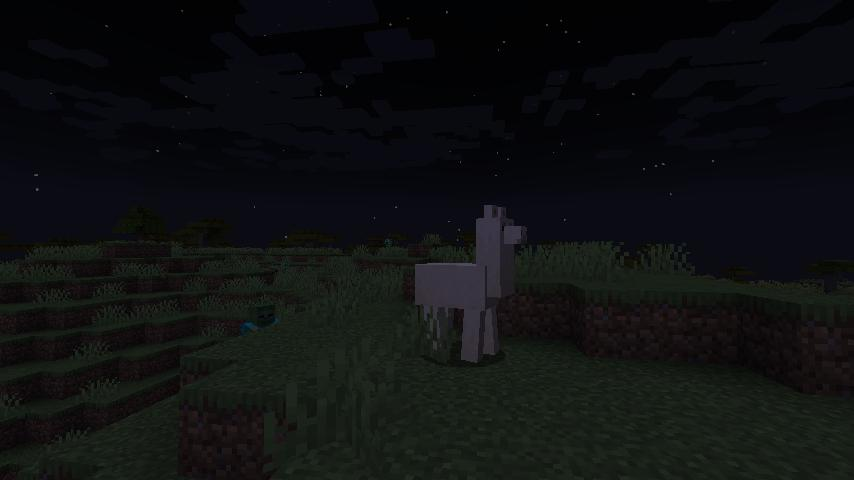llama: (407, 201, 531, 367)
zombie: (241, 301, 282, 335)
